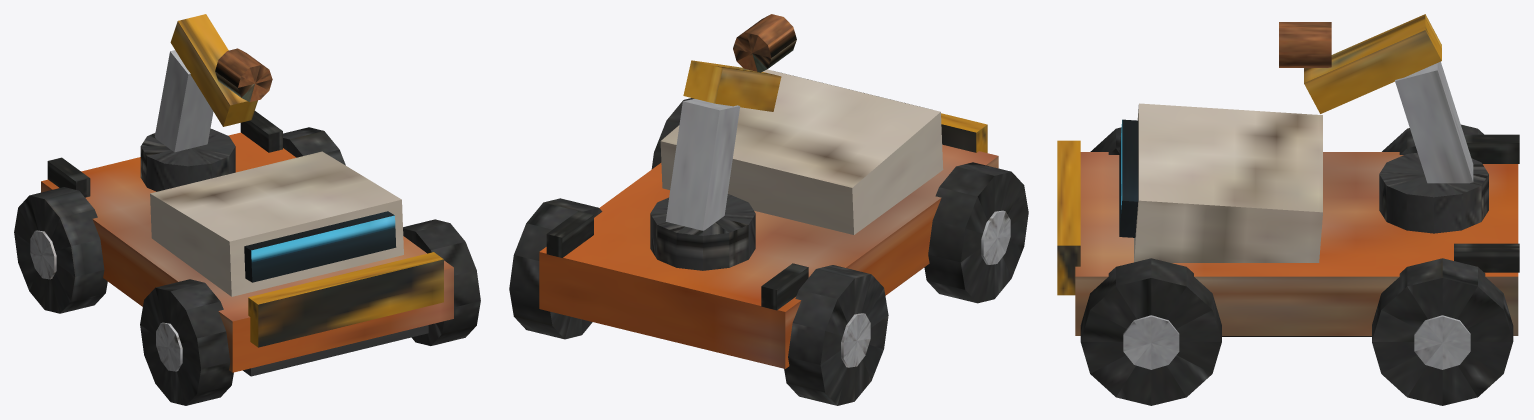
The model's file is service-rover.gltf.
The picture shows the model from 3 angles, left to right: view 1: azimuth 30°, elevation 25°; view 2: azimuth 150°, elevation 25°; view 3: azimuth 270°, elevation 25°; orthographic projection. The views are drawn at different scales.
Visible parts, largest first — view 1: ServiceRoverGeometry; view 2: ServiceRoverGeometry; view 3: ServiceRoverGeometry.
Part boxes in pixels (bbox=[...]): ServiceRoverGeometry: bbox=[14, 14, 480, 405]; ServiceRoverGeometry: bbox=[509, 14, 1028, 405]; ServiceRoverGeometry: bbox=[1057, 14, 1519, 405].
Bounding box in the file's own units: 3.6 × 3.19 × 4.38.
10 materials, 10 textured.
